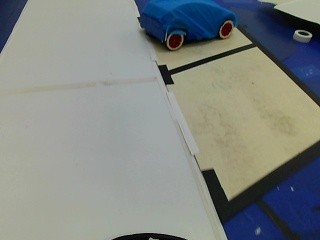car: (132, 0, 239, 51)
